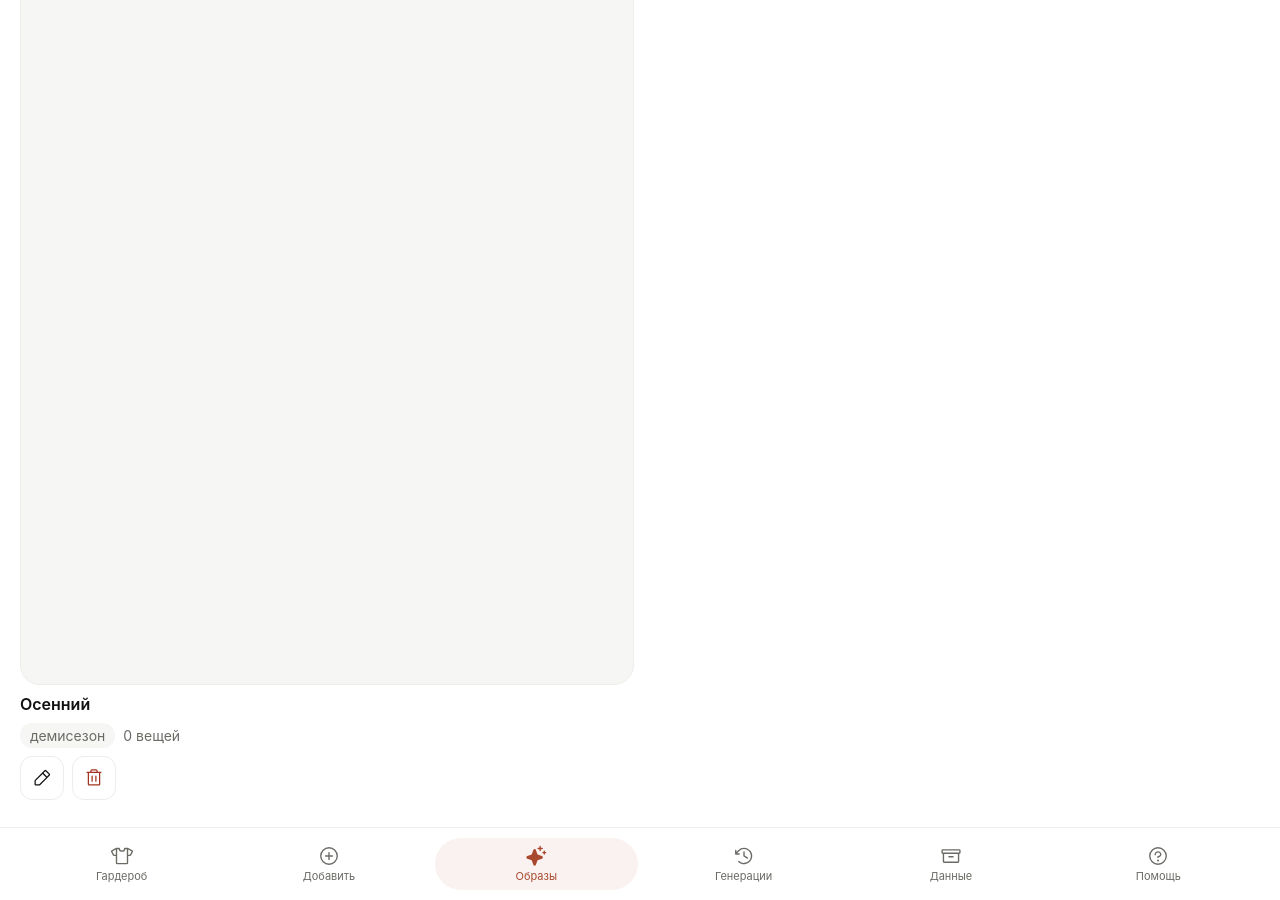
Test case: Список образов (T18) › переименование сохраняется в IndexedDB и видно в списке
(page scrolled)
Click the button named "Переименовать Осенний" at (42, 778), box [20,756,64,800]
(page scrolled)
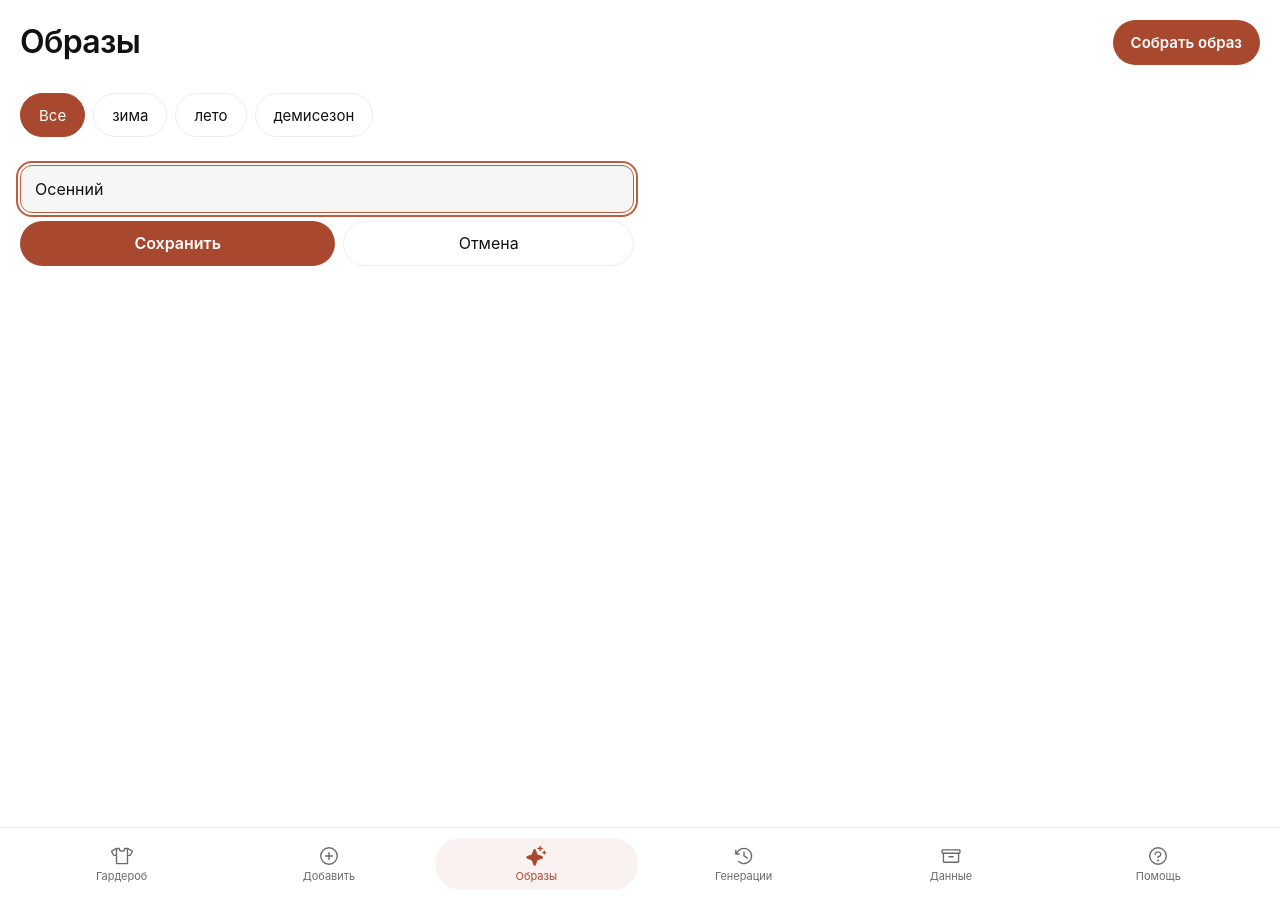
Replace the text in the field named "Название образа" with "Вечерний" at (327, 189), box [20,165,634,213]
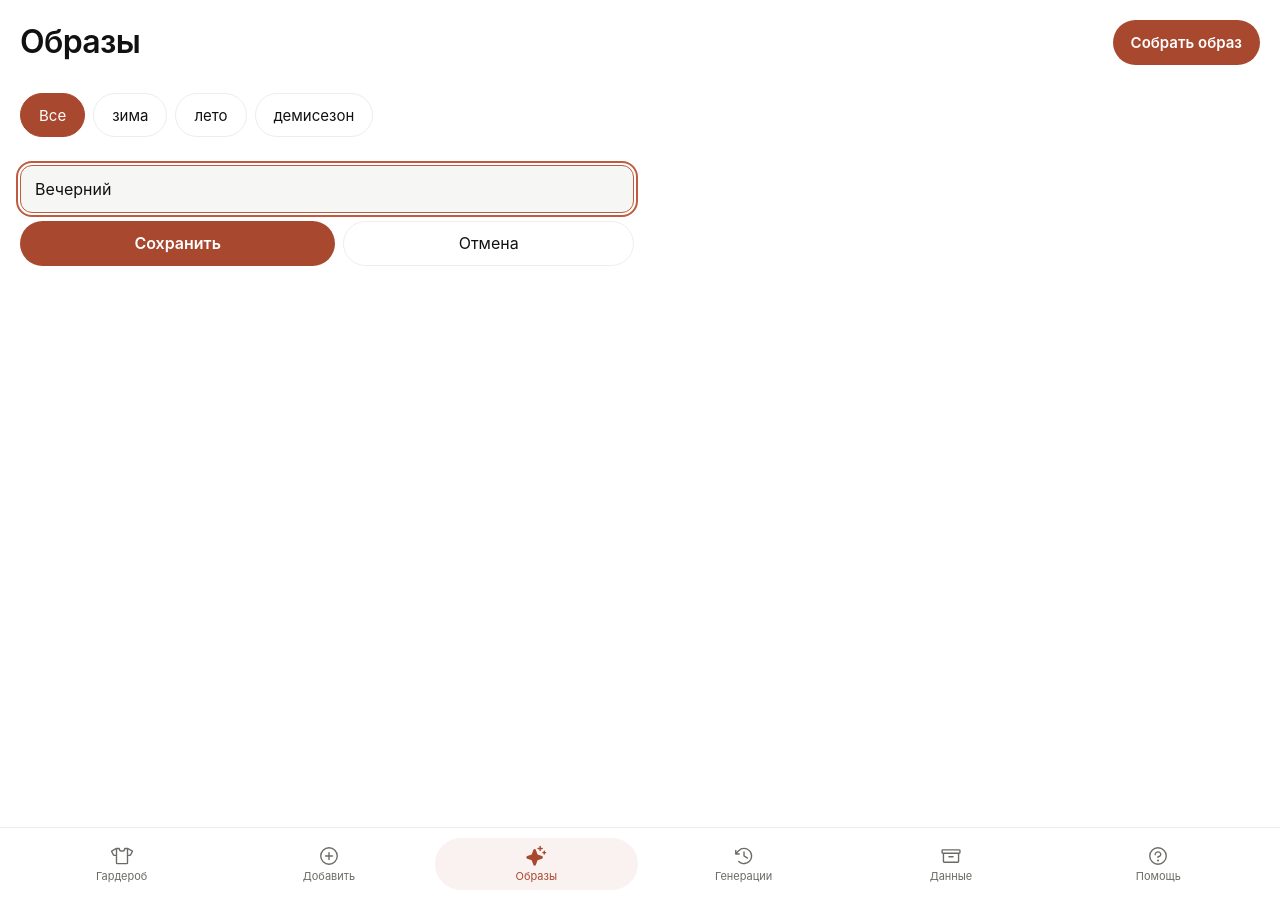
Click the button "Сохранить" at (178, 244), box [20,221,335,266]
(page scrolled)
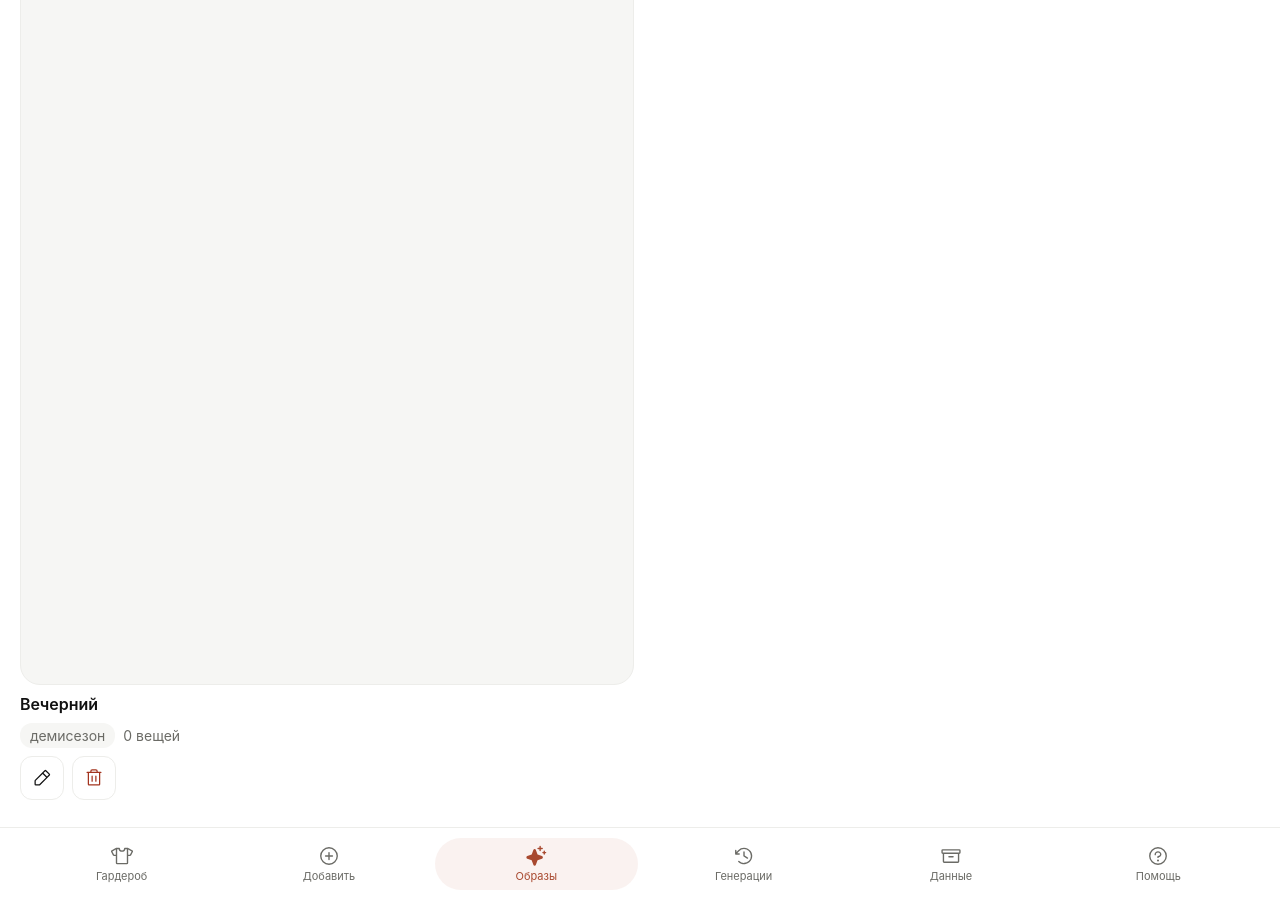
Result: the text "Вечерний" is shown at [20,692,98,715]
